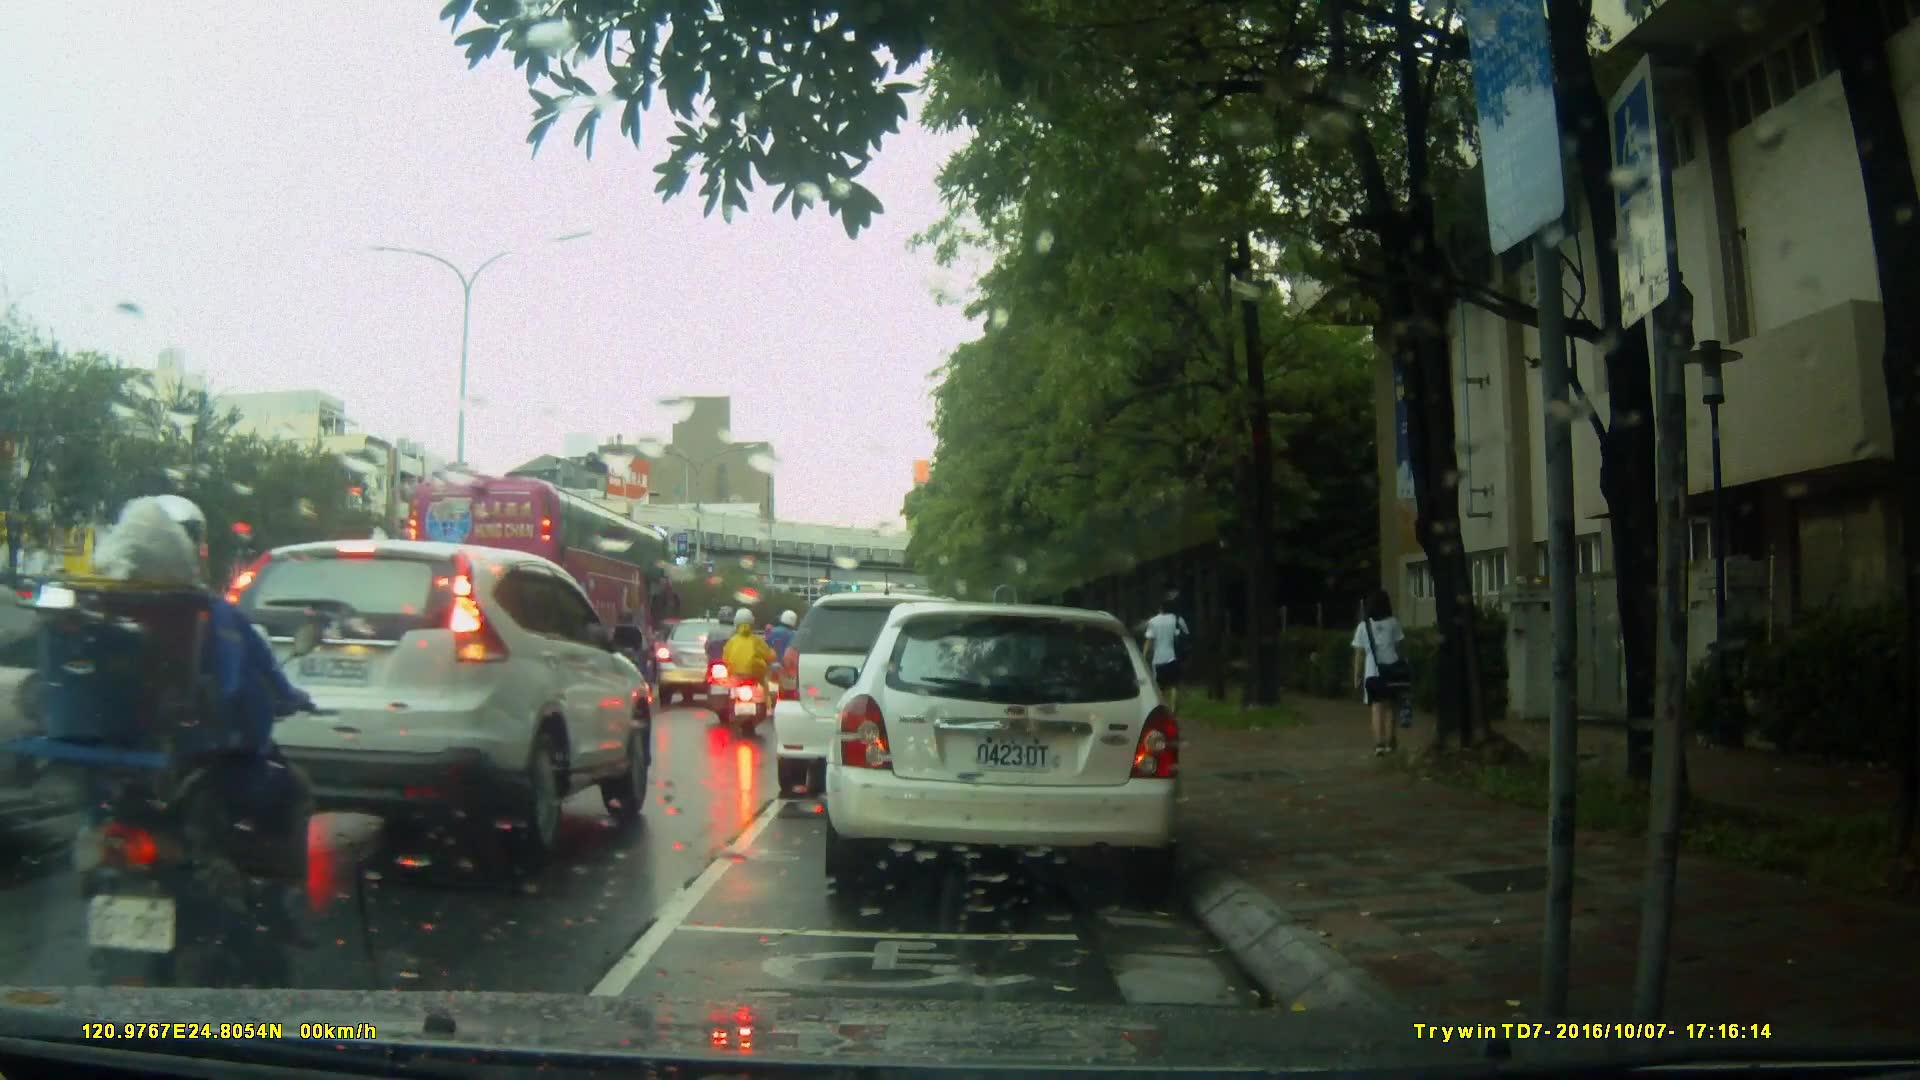pedestrian: (1338, 582, 1421, 773), (1142, 591, 1190, 722)
rider: (17, 495, 318, 1019), (720, 606, 770, 740), (698, 600, 750, 719), (766, 605, 808, 709)
vehicle: (208, 539, 660, 865), (835, 594, 1194, 898), (397, 477, 685, 678), (776, 590, 1026, 784), (652, 616, 764, 704)
